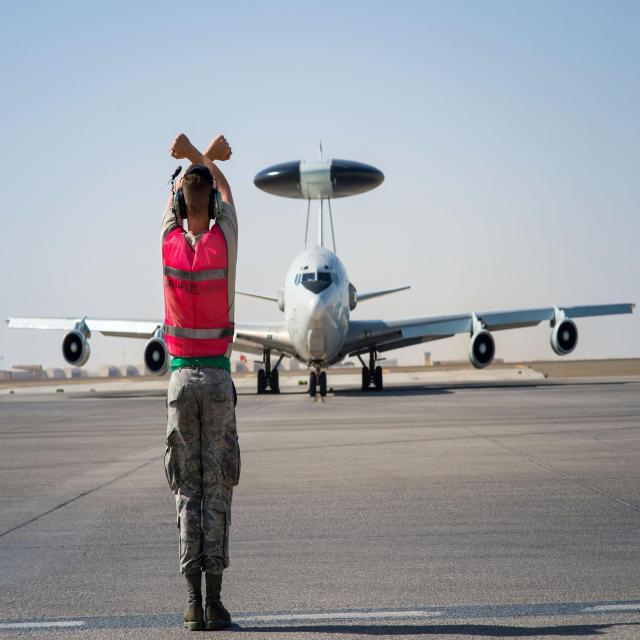Vest: (157, 217, 239, 367)
